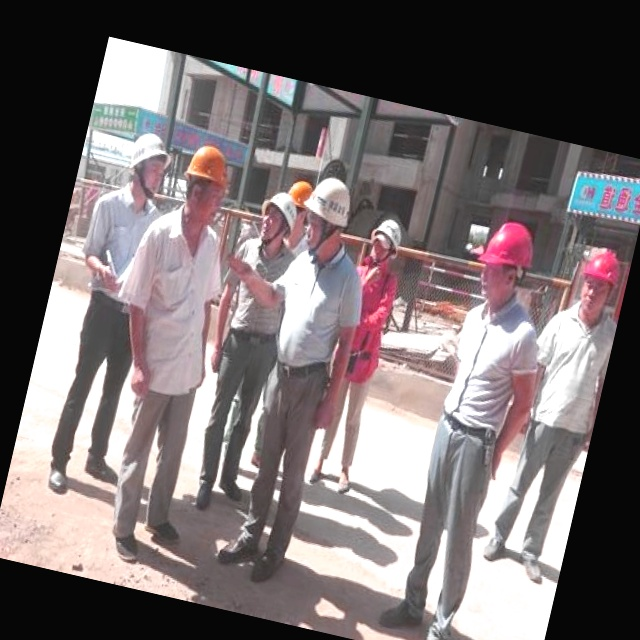Con_Casco: (469, 216, 539, 312), (293, 171, 360, 258)
Sin_Chaleco: (436, 298, 546, 443), (266, 245, 365, 379)
